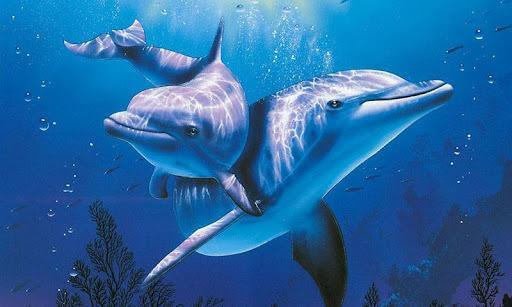fish: (139, 69, 454, 290), (62, 18, 266, 216)
